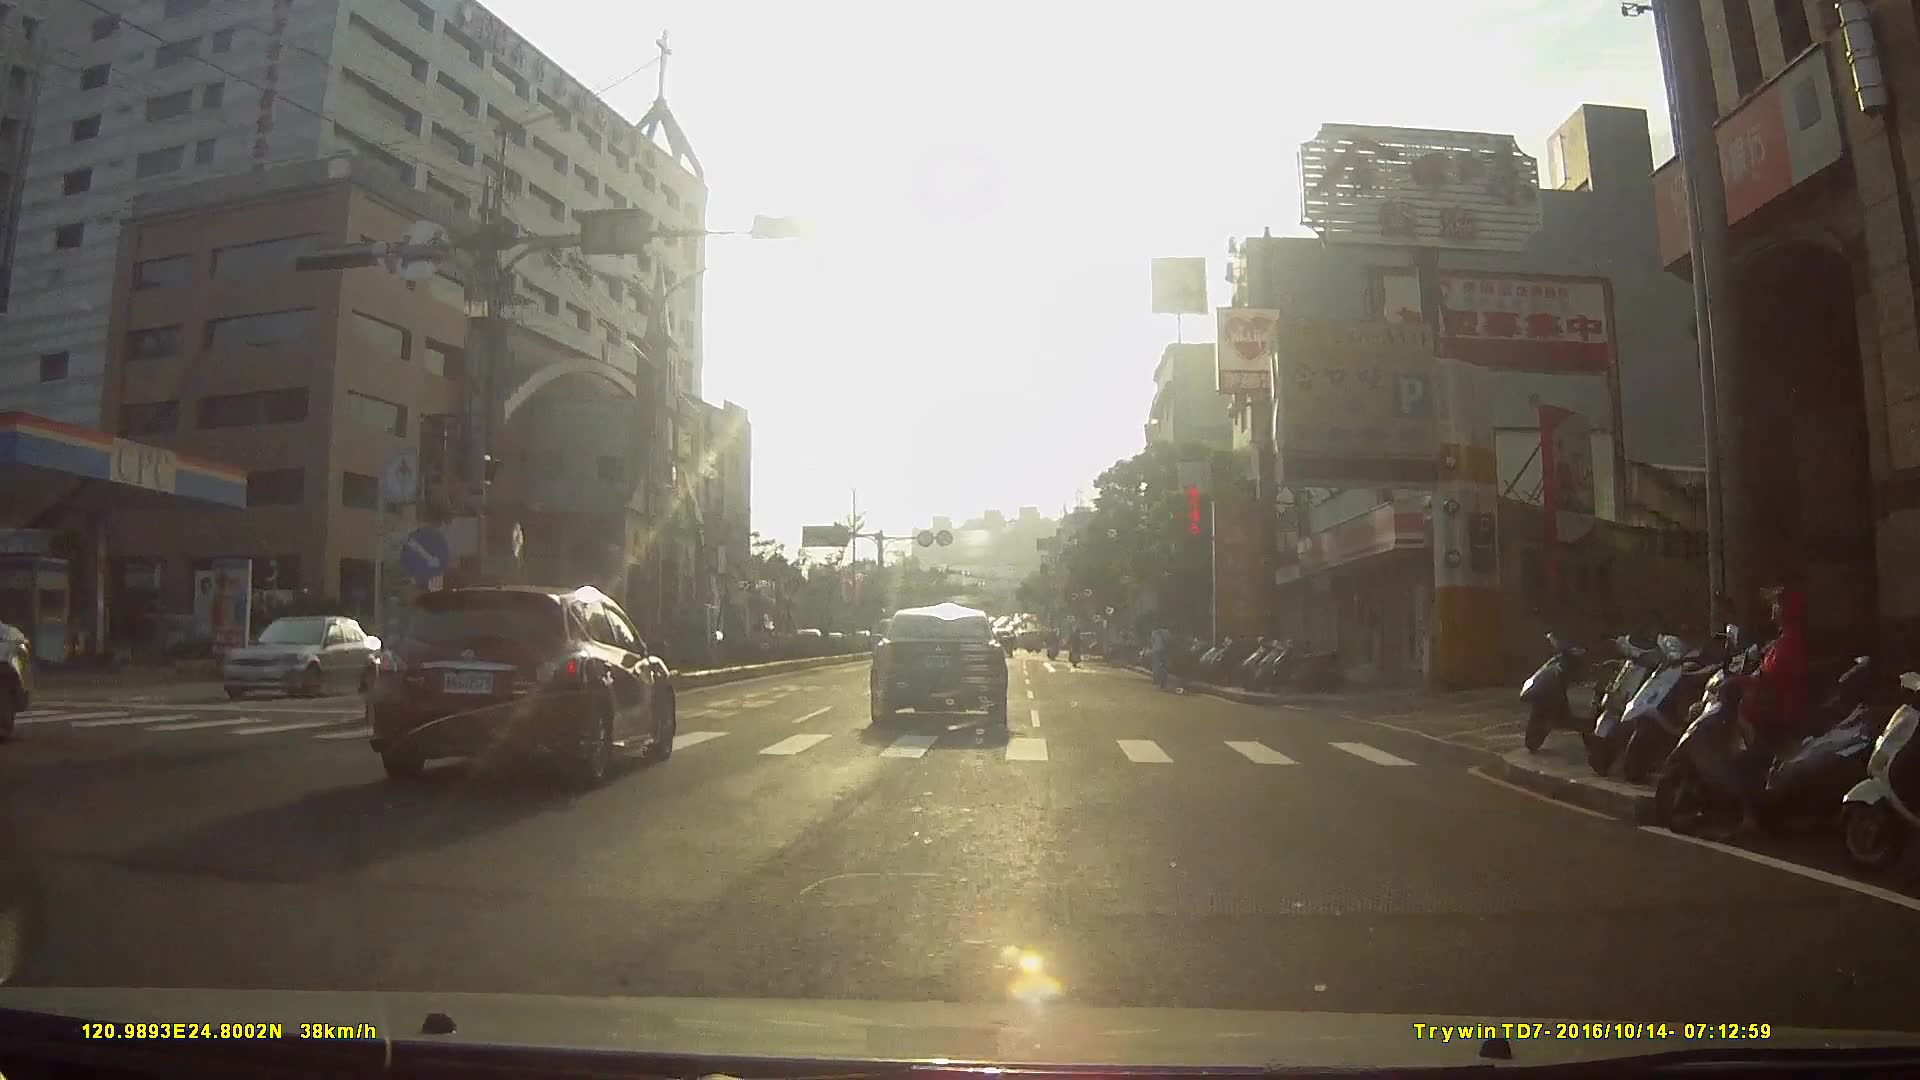rider: (1645, 582, 1890, 851), (1824, 659, 1920, 875), (1145, 620, 1174, 694)
vehicle: (370, 578, 689, 798), (861, 600, 1014, 737), (207, 612, 402, 710), (763, 607, 822, 662)
